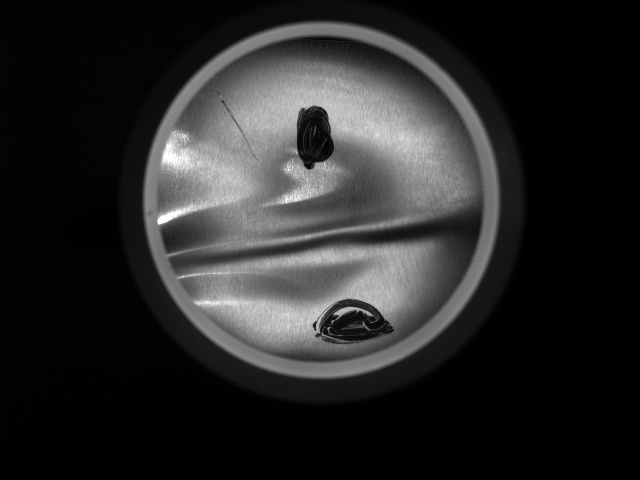ca_shang: (212, 86, 260, 163)
zang_wu: (309, 295, 398, 348), (296, 103, 338, 170)
zhe_zhou: (211, 59, 432, 332)
